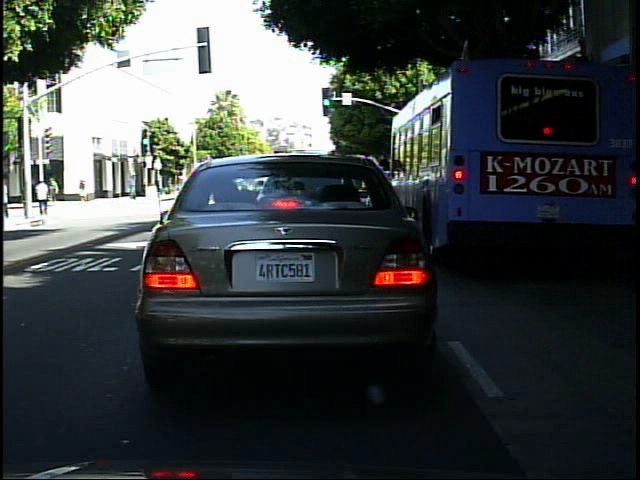person: (35, 175, 53, 218), (76, 171, 94, 209), (19, 180, 35, 222), (125, 170, 143, 204), (49, 173, 63, 207)
